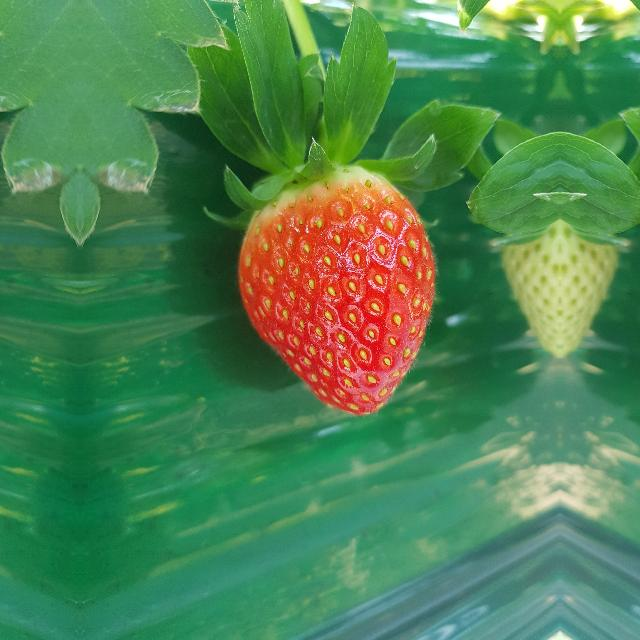Health_100: (237, 164, 438, 416)
